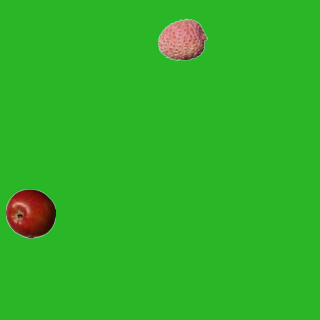Apple Braeburn: (5, 188, 55, 238)
Lychee: (157, 14, 207, 64)
